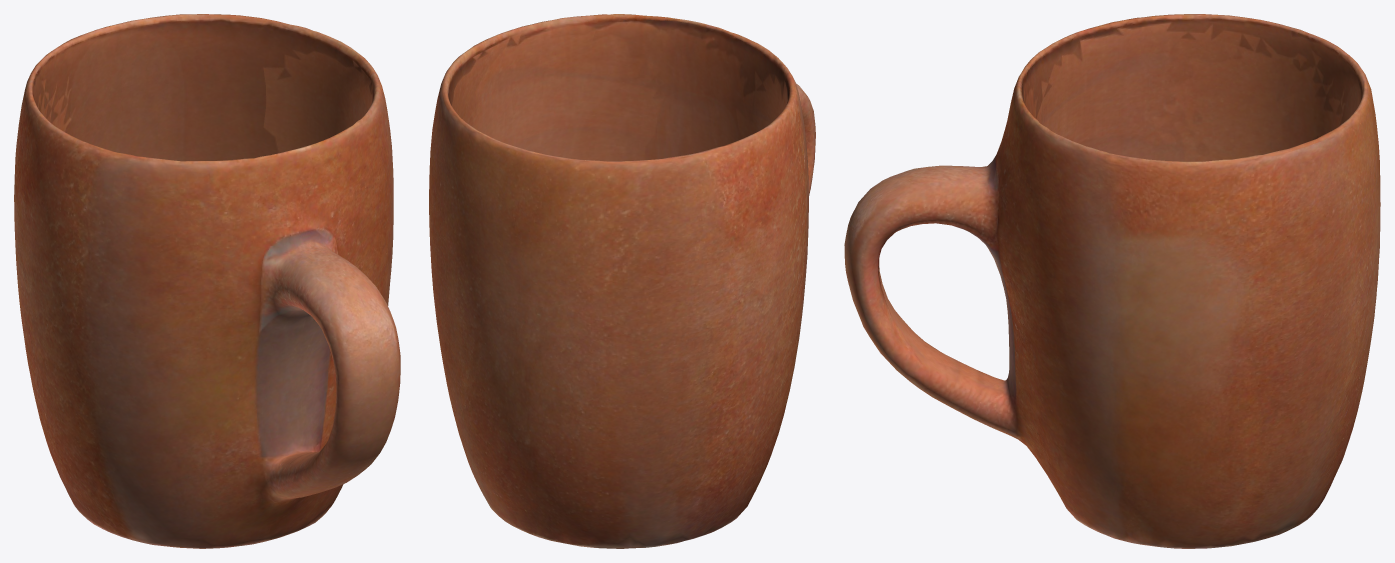
File: cup.glb
The picture shows the model from 3 angles, left to right: view 1: azimuth 30°, elevation 25°; view 2: azimuth 150°, elevation 25°; view 3: azimuth 270°, elevation 25°; orthographic projection.
Visible parts, largest first — view 1: model; view 2: model; view 3: model.
Boxes of the visible parts, bbox=[...] form: model: bbox=[14, 14, 400, 548]; model: bbox=[429, 14, 815, 548]; model: bbox=[844, 14, 1380, 548].
Size of the model in its own units: 1.42 by 1.68 by 2.
Materials: 1 (1 with a texture image).
